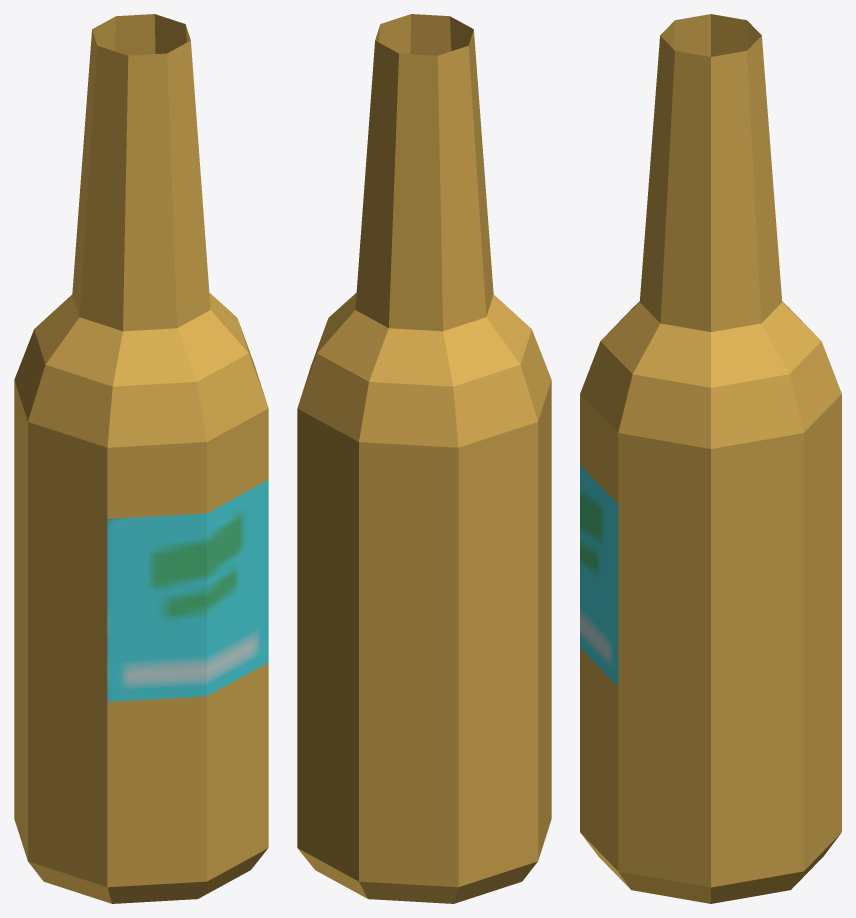
Rendered from BottleUncapped_PaleAle.obj.
The picture shows the model from 3 angles, left to right: view 1: azimuth 30°, elevation 25°; view 2: azimuth 150°, elevation 25°; view 3: azimuth 270°, elevation 25°; orthographic projection.
Parts seen in each view (by area): view 1: BottleUncapped_PaleAle_0; view 2: BottleUncapped_PaleAle_0; view 3: BottleUncapped_PaleAle_0.
Boxes of the visible parts, left/top/right/bottom form: BottleUncapped_PaleAle_0: left=14, top=14, right=268, bottom=903; BottleUncapped_PaleAle_0: left=297, top=14, right=551, bottom=903; BottleUncapped_PaleAle_0: left=580, top=14, right=841, bottom=903.
Size of the model in its own units: 0.0938 by 0.3246 by 0.0939.
Materials: 1 (1 with a texture image).
